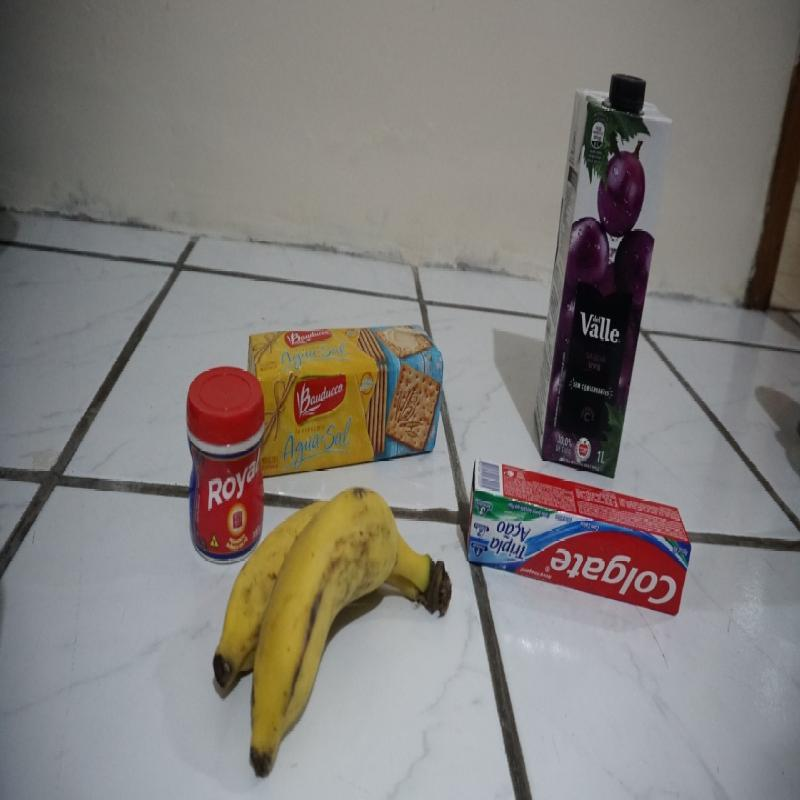Banana: (263, 471, 457, 763)
Cracker: (262, 329, 444, 462)
Toothpaste: (471, 454, 696, 624)
Yeast: (185, 361, 264, 556)
